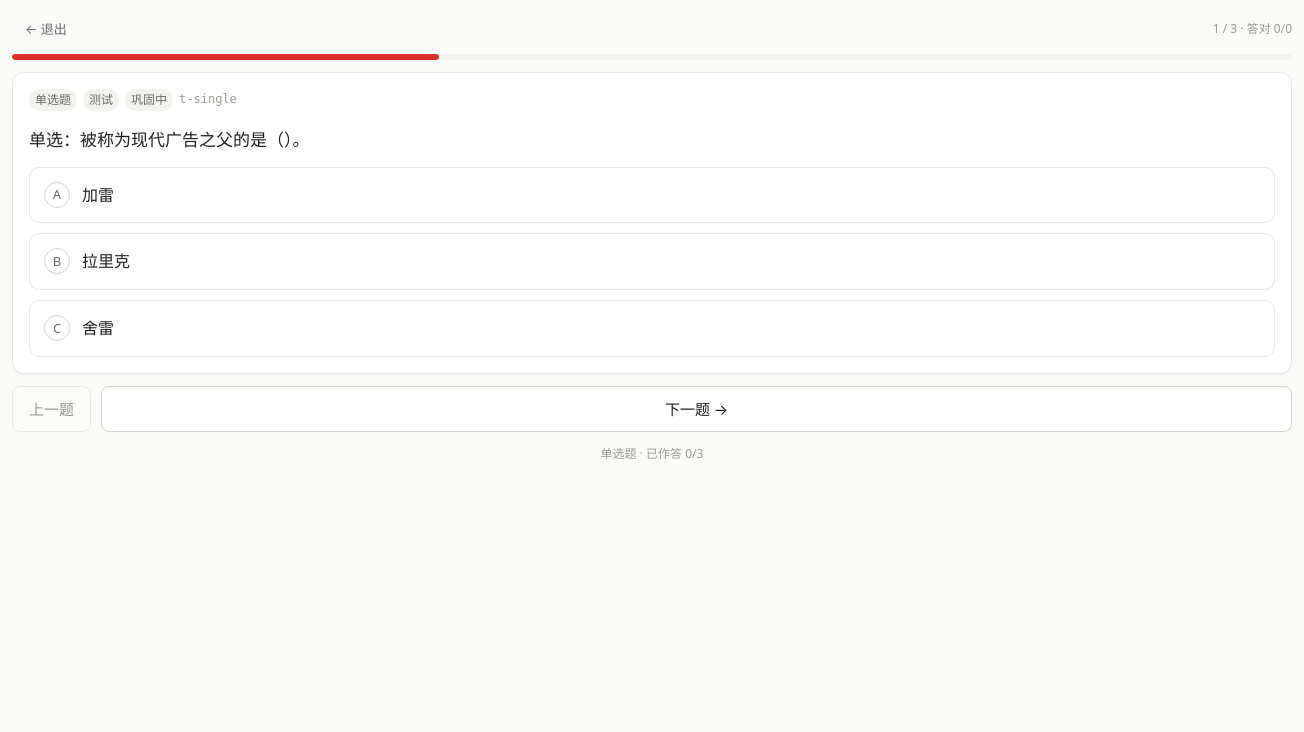
滑动手势 · 不能把点击翻页吃掉 › 在题目区域左滑（已作答）可以前进
Click the text "舍雷": point(98, 328) [82,317,114,339]
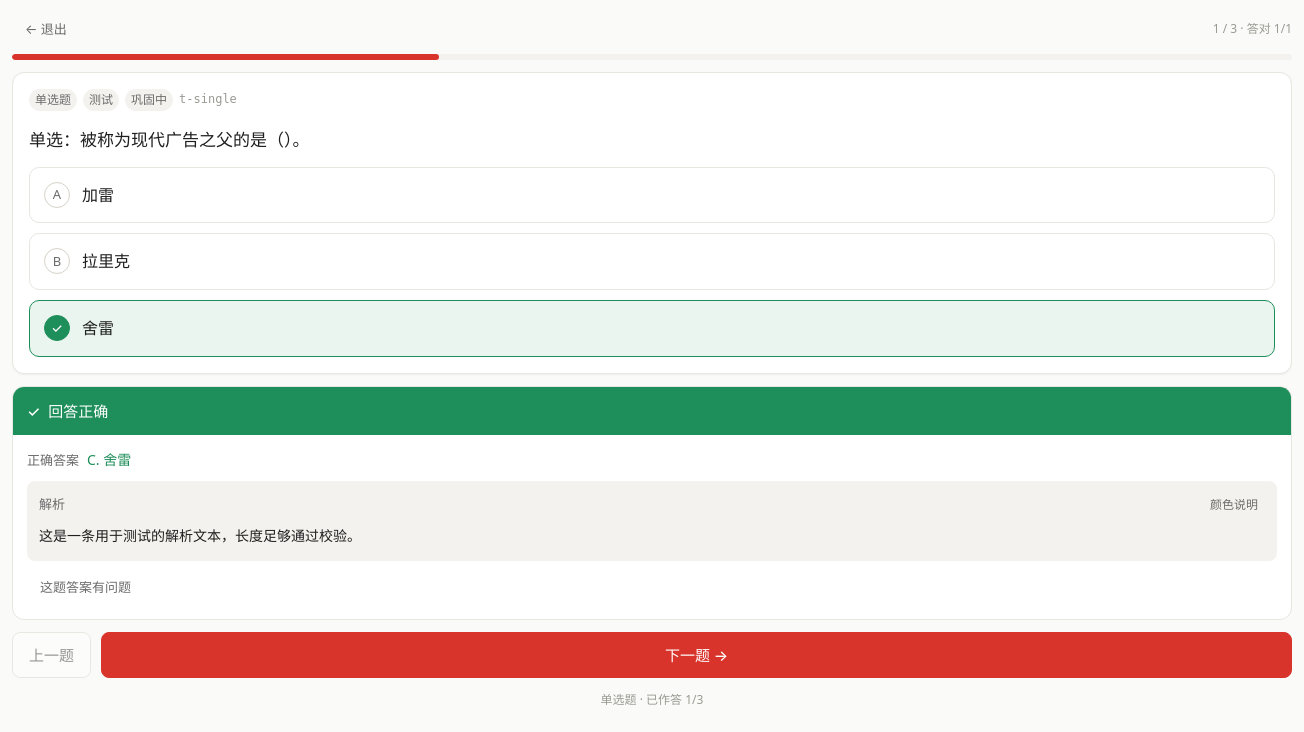
Press the mouse on the element that starts with "← 退出": point(652, 360) [12,12,1292,709]
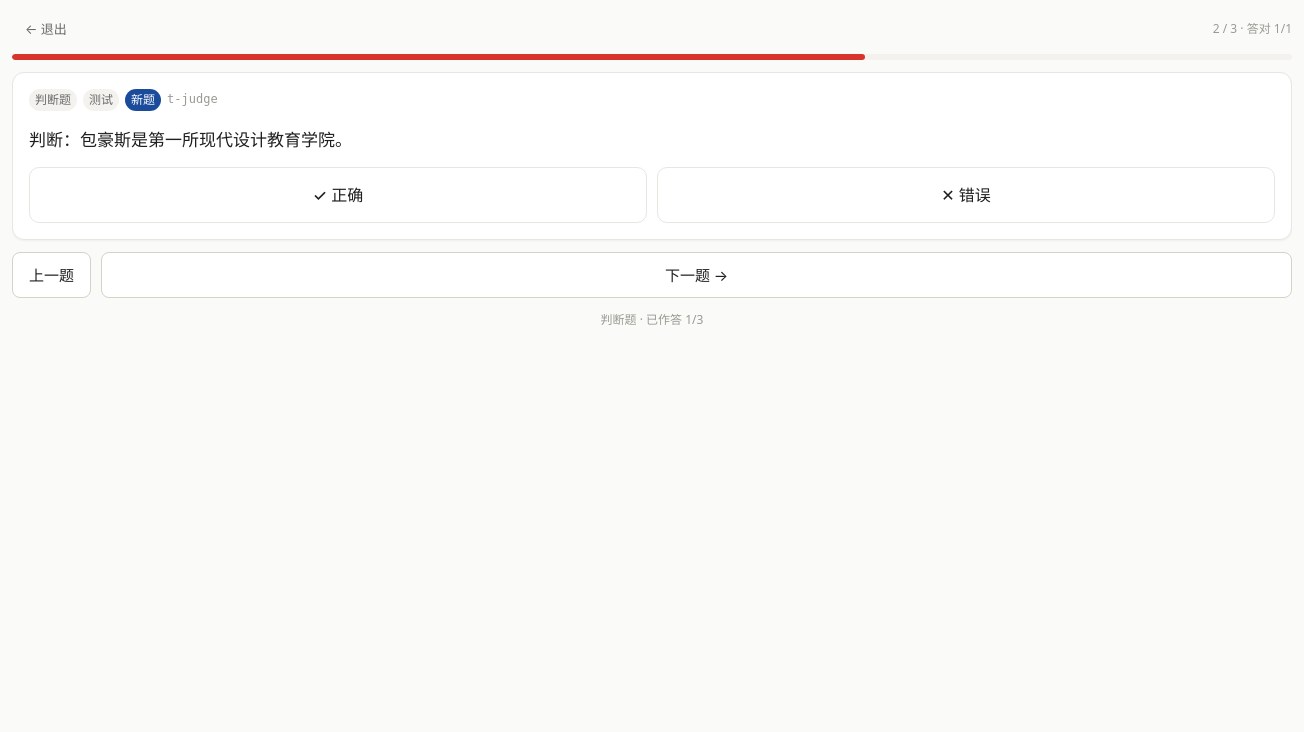
Expected: the text "2 / 3 · 答对 1/1" is shown, [1213,19,1292,39]
